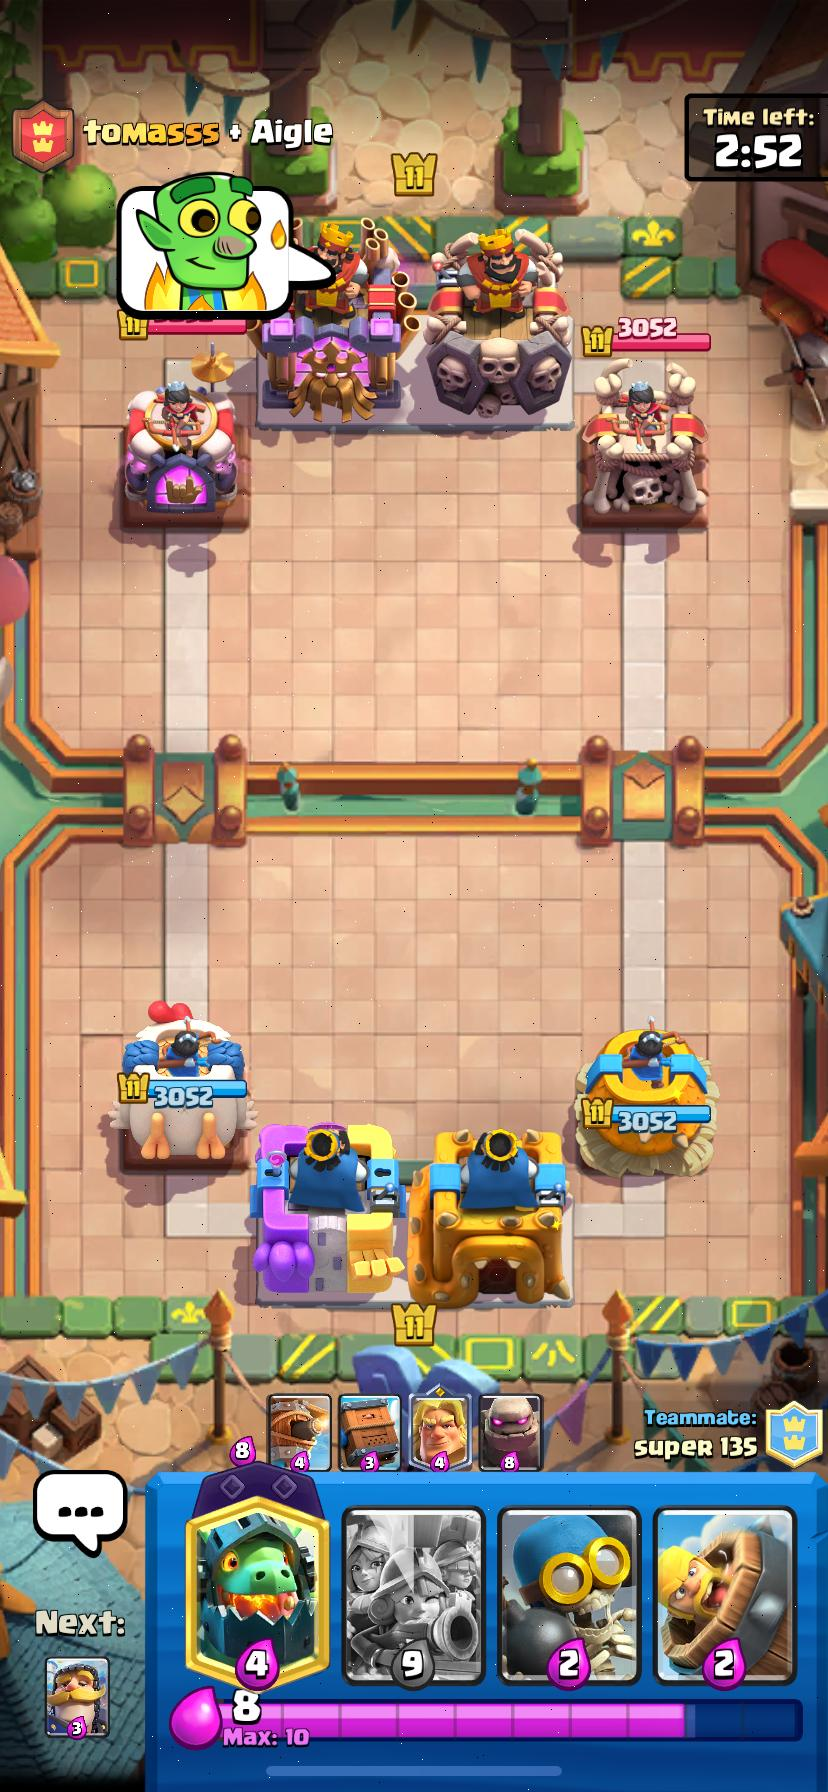EKingTower: (260, 219, 417, 421), (423, 227, 571, 424)
EnemyPrincessTower: (579, 360, 707, 523), (124, 382, 238, 515)
OwnKingTower: (408, 1128, 571, 1306), (252, 1123, 403, 1303)
OwnPrincessTower: (109, 1003, 254, 1161), (576, 1019, 716, 1175)
